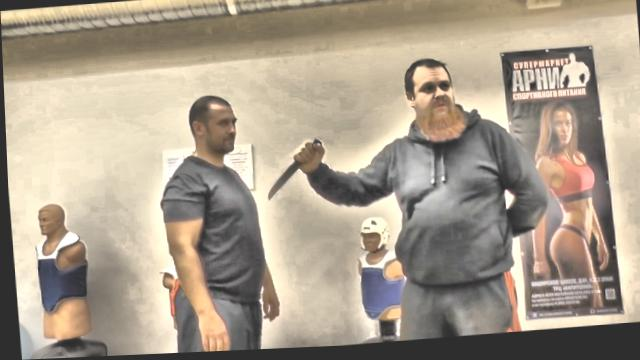knife: (259, 139, 327, 205)
